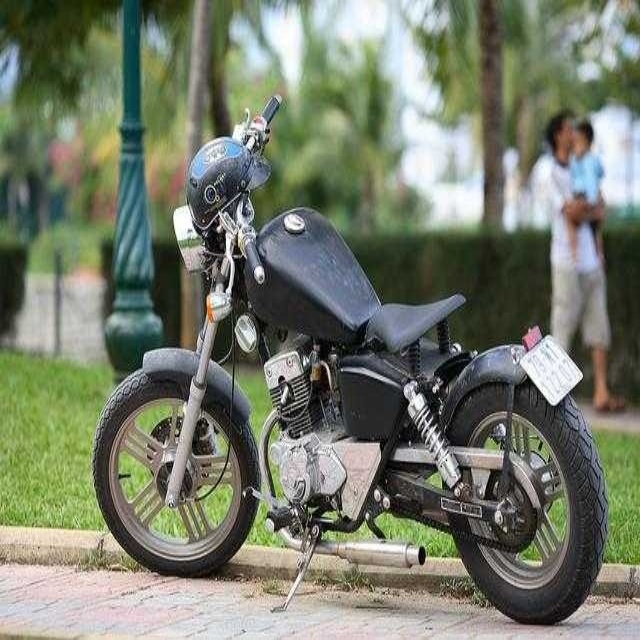Motorcycle: (92, 90, 608, 626)
